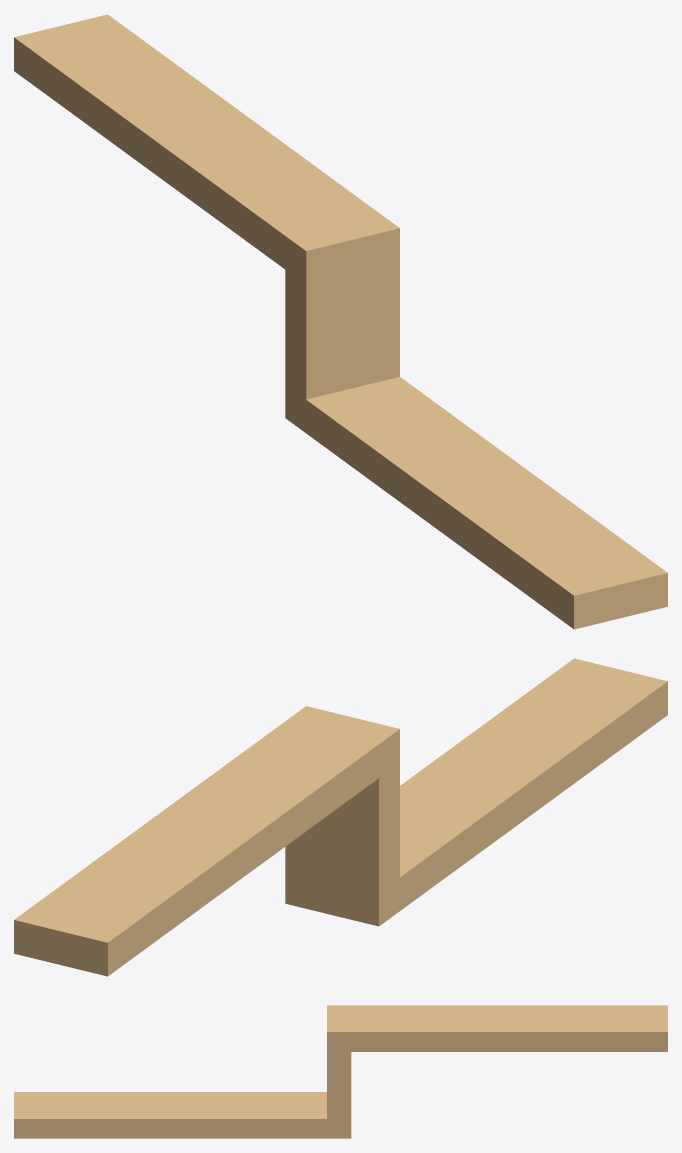
File: fbx_club_shelf.fbx
3 views of the same model, one above another, from view 1: azimuth 30°, elevation 25°; view 2: azimuth 150°, elevation 25°; view 3: azimuth 270°, elevation 25° (orthographic). The views are drawn at different scales.
Visible parts, largest first — view 1: fbx_club_shelf; view 2: fbx_club_shelf; view 3: fbx_club_shelf.
Boxes of the visible parts, box(x1,y1,x2,y2) form: fbx_club_shelf: box(14, 14, 667, 629); fbx_club_shelf: box(14, 658, 667, 976); fbx_club_shelf: box(14, 1005, 667, 1138).
Bounding box in the file's own units: 0.6457 × 1.2 × 6.68.
Materials: 1 (1 with a texture image).
